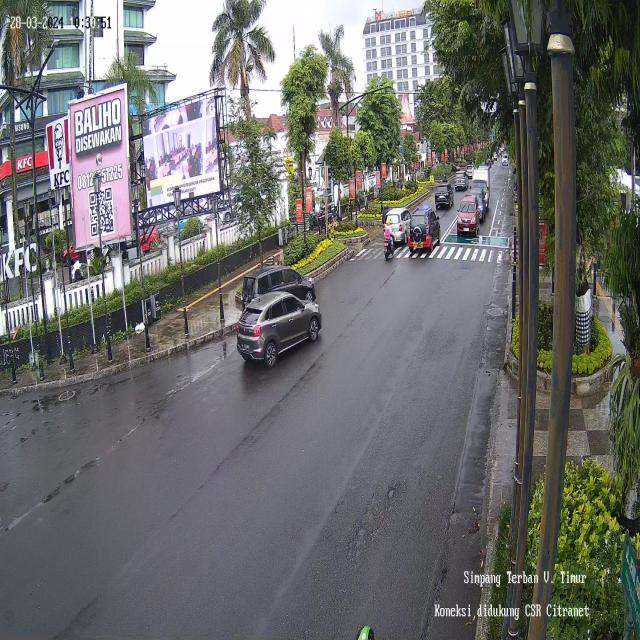car: (235, 292, 323, 368), (242, 266, 316, 316), (410, 205, 440, 253), (384, 206, 414, 244), (458, 196, 479, 236), (434, 183, 453, 209), (455, 170, 468, 190)
motorcycle: (384, 216, 394, 262)
truck: (472, 167, 490, 211)
